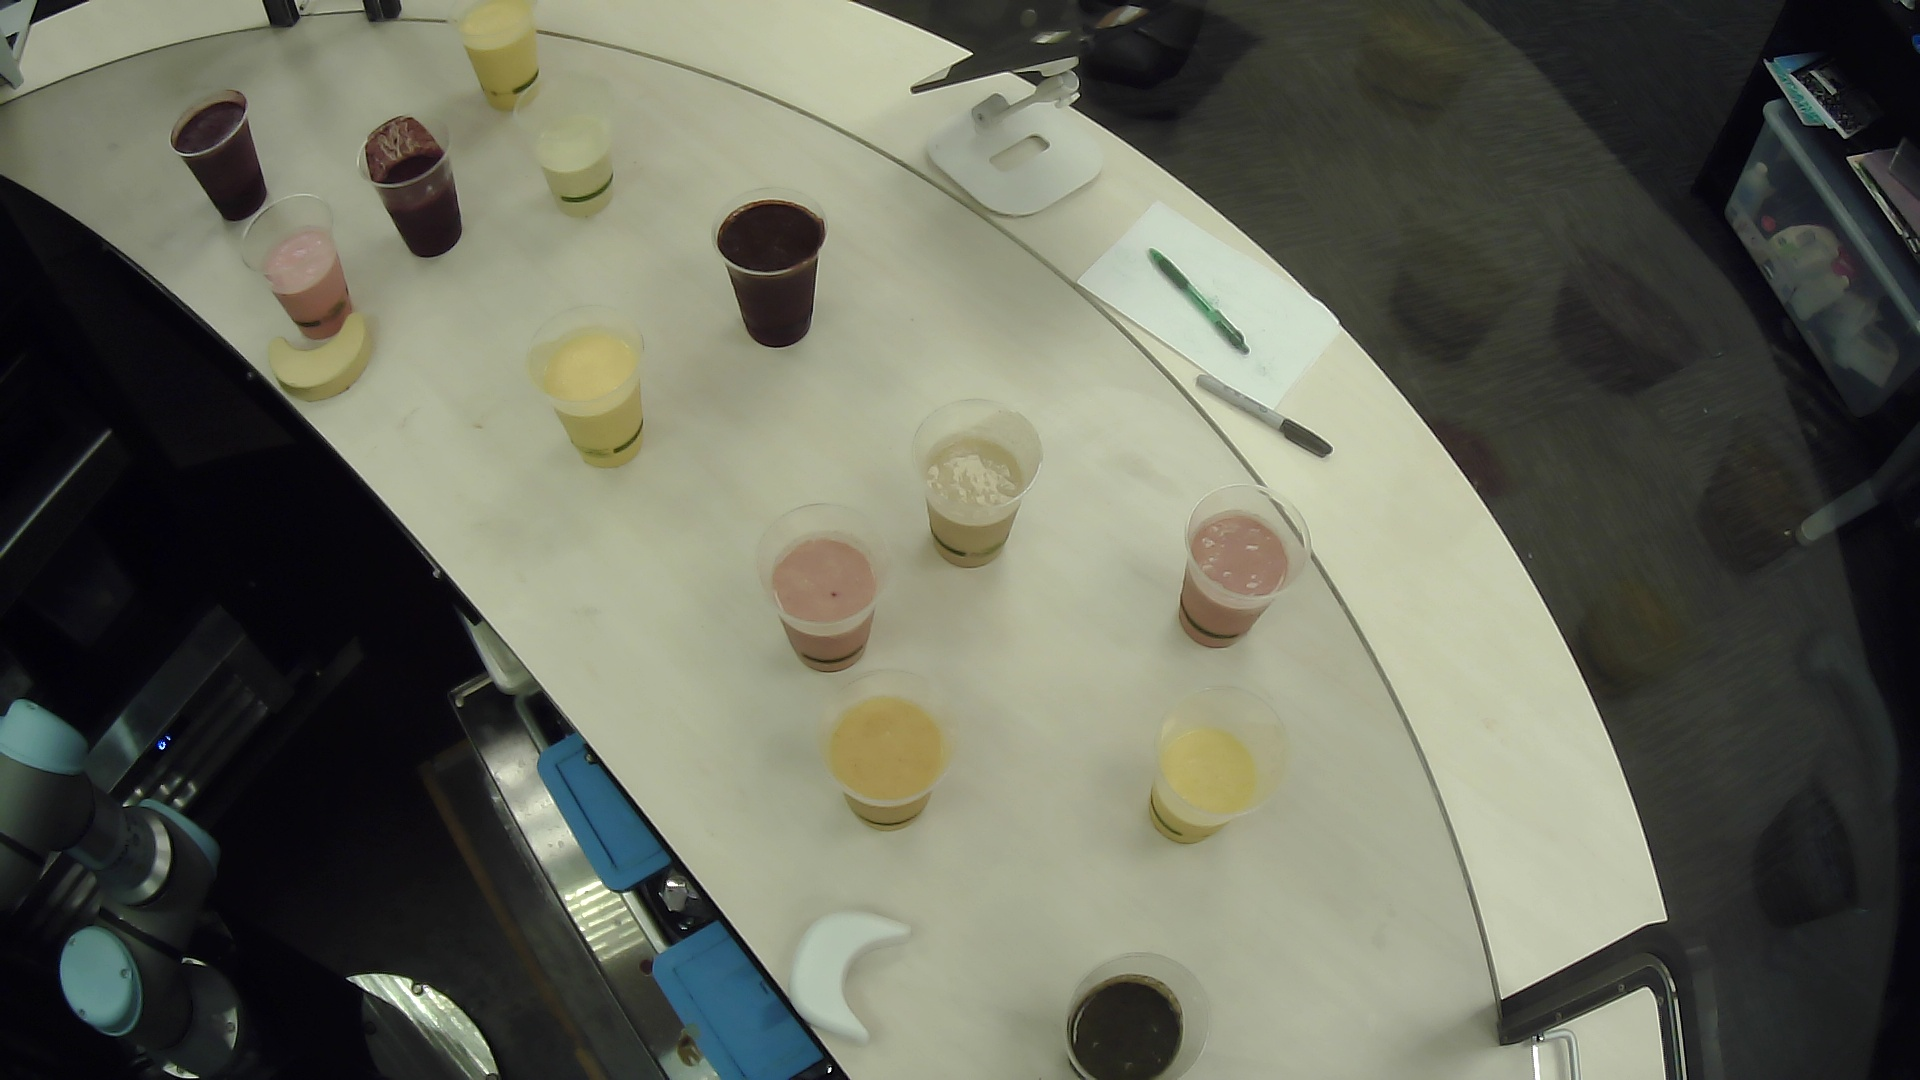Deliver: (779, 895, 928, 1056), (244, 297, 401, 415)
Full_cup: (731, 493, 909, 684), (1166, 460, 1320, 679), (796, 667, 969, 858), (897, 382, 1051, 592), (1125, 684, 1298, 870), (688, 167, 840, 372), (1034, 936, 1244, 1080), (512, 297, 662, 495), (237, 179, 364, 360), (345, 102, 484, 266), (510, 67, 642, 233), (160, 82, 281, 229), (436, 1, 575, 112)
